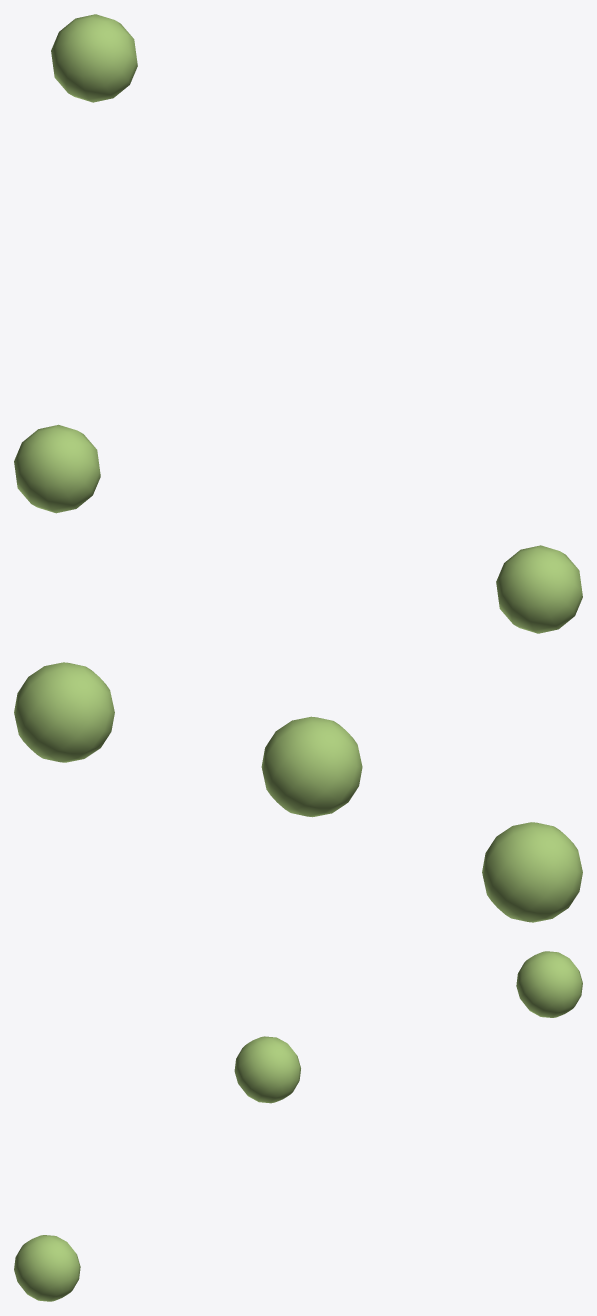
The model's file is brachiocephalic-nodes.glb.
3 views of the same model, one above another, from view 1: azimuth 30°, elevation 25°; view 2: azimuth 150°, elevation 25°; view 3: azimuth 270°, elevation 25° (orthographic). The views are drawn at different scales.
Parts seen in each view (by area): view 1: Brachiocephalic nodes; view 2: Brachiocephalic nodes; view 3: Brachiocephalic nodes.
Boxes of the visible parts, x1,y1,x2,y2 form: Brachiocephalic nodes: (14,14,582,633); Brachiocephalic nodes: (14,662,582,922); Brachiocephalic nodes: (14,951,582,1301).
Size of the model in its own units: 0.014 by 0.0129 by 0.022.
